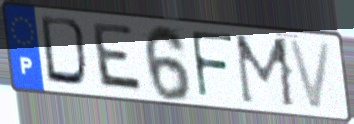6: (141, 22, 194, 104)
D: (38, 13, 95, 91)
E: (91, 20, 146, 96)
F: (188, 28, 237, 103)
M: (232, 32, 299, 111)
V: (285, 37, 336, 113)
